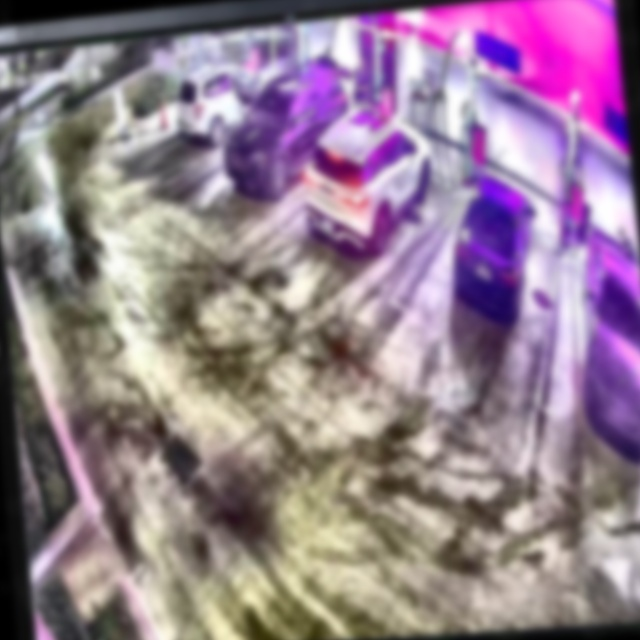Car: (217, 54, 364, 201), (300, 101, 439, 255), (445, 169, 549, 327)
